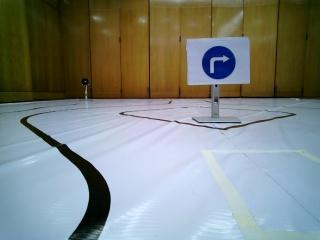right: (189, 43, 246, 83)
